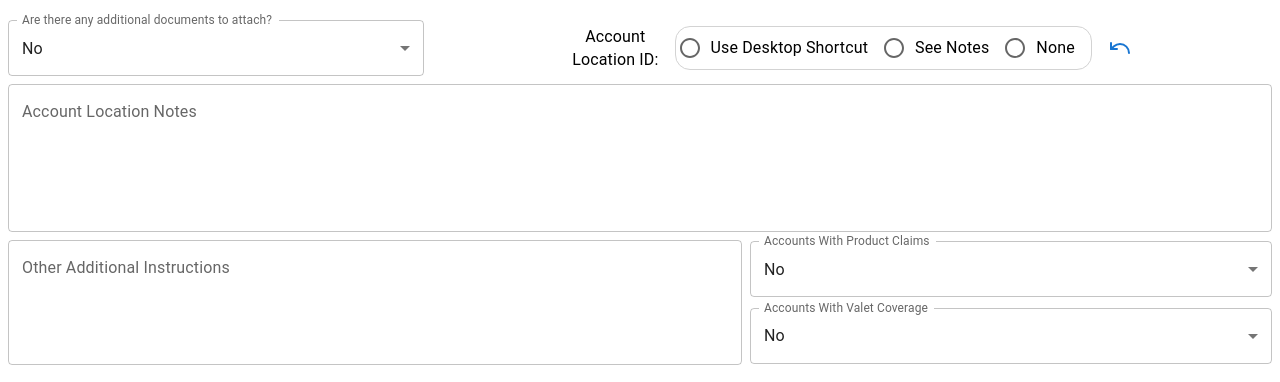
Scenario: view-policy-types/CctInstructionsOther › sets account location notes to None for None option
This screenshot has width=1280, height=382.
What coordinates should you click on to do the following:
click the radio button labelled "None"
I would click on:
 (1039, 48)
Its box is [1003,36,1075,60].
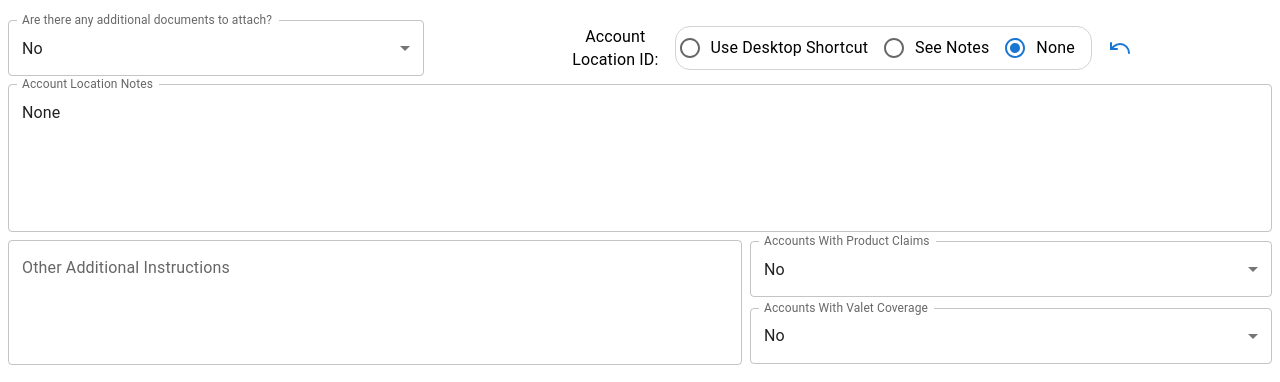
Result: the text box labelled "Account Location Notes" holds "None" at [22,100,1258,216]
